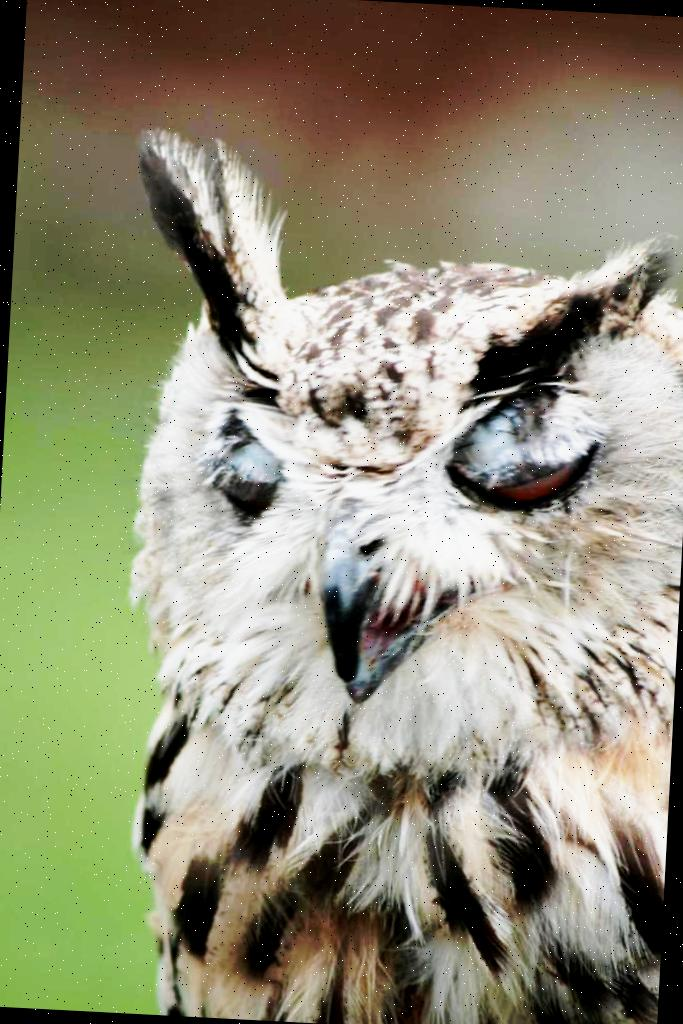Owl: (87, 123, 670, 994)
